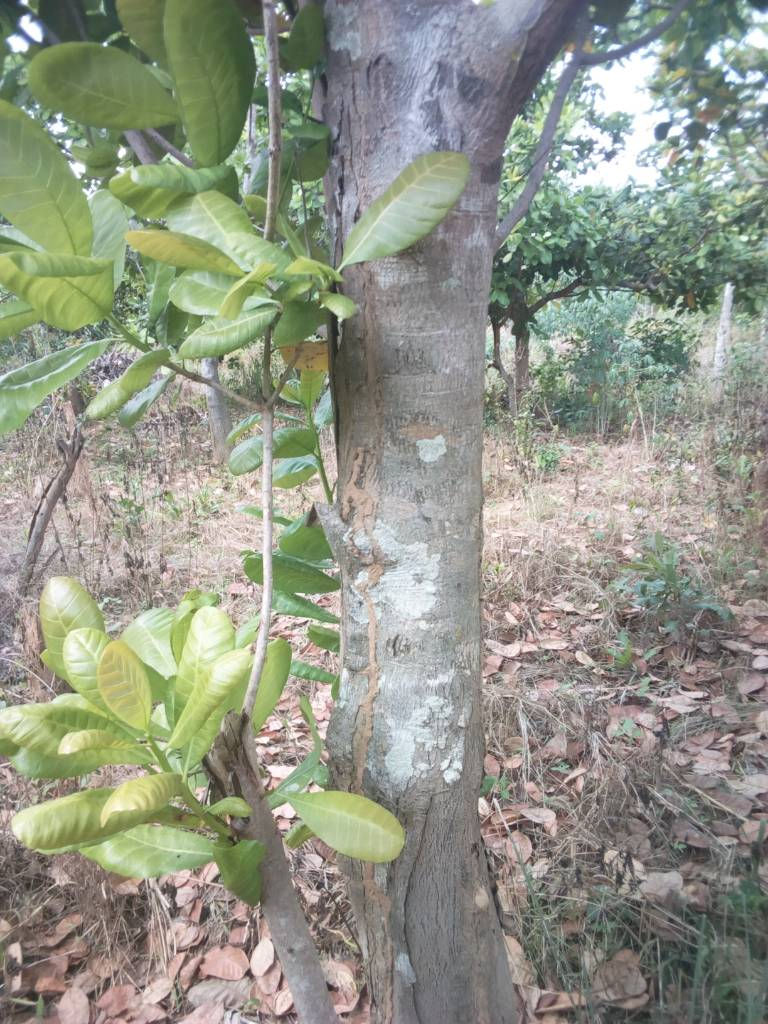Termites: (341, 277, 388, 792)
